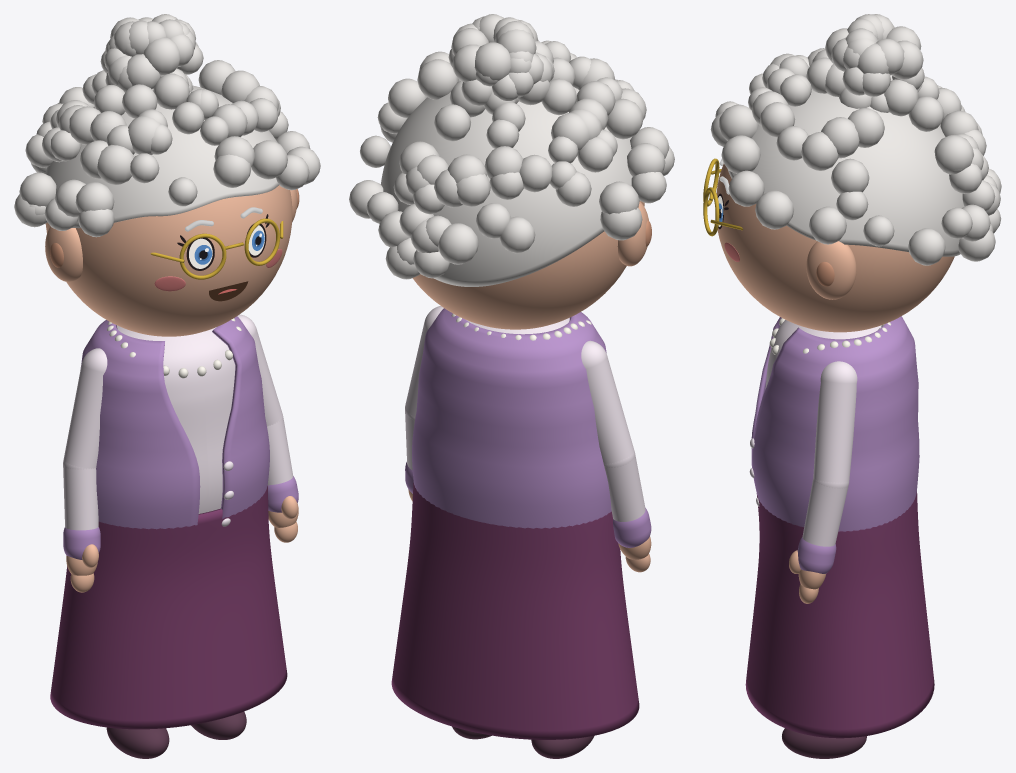
File: oma.glb
The picture shows the model from 3 angles, left to right: view 1: azimuth 30°, elevation 25°; view 2: azimuth 150°, elevation 25°; view 3: azimuth 270°, elevation 25°; orthographic projection. The views are drawn at different scales.
Parts seen in each view (by area): view 1: oma_rok, oma_vest, oma_hoofd, oma_romp, oma_haar, oma_bovenarm_R, oma_onderarm_R, oma_schoen_R, oma_oor_R, oma_bovenarm_L, oma_onderarm_L, oma_krul26 (+35 smaller); view 2: oma_rok, oma_vest, oma_haar, oma_hoofd, oma_bovenarm_R, oma_onderarm_R, oma_krul13, oma_krul48, oma_krul1, oma_knotkrul87, oma_krul36, oma_krul35 (+39 smaller); view 3: oma_rok, oma_vest, oma_haar, oma_hoofd, oma_bovenarm_L, oma_onderarm_L, oma_oor_L, oma_schoen_L, oma_krul78, oma_krul7, oma_krul63, oma_krul21 (+28 smaller).
Boxes of the visible parts, x1,y1,x2,y2 form: oma_rok: (50,486,287,729); oma_vest: (80,316,269,529); oma_hoofd: (45,185,292,336); oma_romp: (117,326,235,513); oma_haar: (45,85,279,228); oma_bovenarm_R: (63,348,107,469); oma_onderarm_R: (63,463,98,530); oma_schoen_R: (106,727,169,758); oma_oor_R: (45,226,82,281); oma_bovenarm_L: (237,314,282,426); oma_onderarm_L: (267,417,293,485); oma_krul26: (97,144,134,184); oma_rok: (391,483,639,739); oma_vest: (412,308,611,528); oma_haar: (381,79,639,286); oma_hoofd: (412,201,644,329); oma_bovenarm_R: (581,340,634,466); oma_onderarm_R: (604,454,645,521); oma_krul13: (438,223,478,264); oma_krul48: (417,59,458,99); oma_krul1: (606,98,643,139); oma_knotkrul87: (474,42,510,80); oma_krul36: (434,104,470,141); oma_krul35: (599,181,639,214); oma_rok: (745,492,934,738); oma_vest: (751,316,919,531); oma_haar: (727,89,964,256); oma_hoofd: (716,163,954,332); oma_bovenarm_L: (813,361,857,488); oma_onderarm_L: (802,478,848,546); oma_oor_L: (806,241,856,299); oma_schoen_L: (782,728,866,758); oma_krul78: (755,190,793,229); oma_krul7: (721,135,760,173); oma_krul63: (934,135,973,174); oma_krul21: (809,206,846,244).
Size of the model in its own units: 0.7298 by 1.84 by 0.6966.
